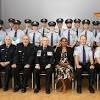uniform: (74, 44, 94, 90), (59, 22, 77, 46), (10, 18, 24, 44), (45, 22, 59, 47), (29, 18, 41, 43), (80, 27, 93, 44)
